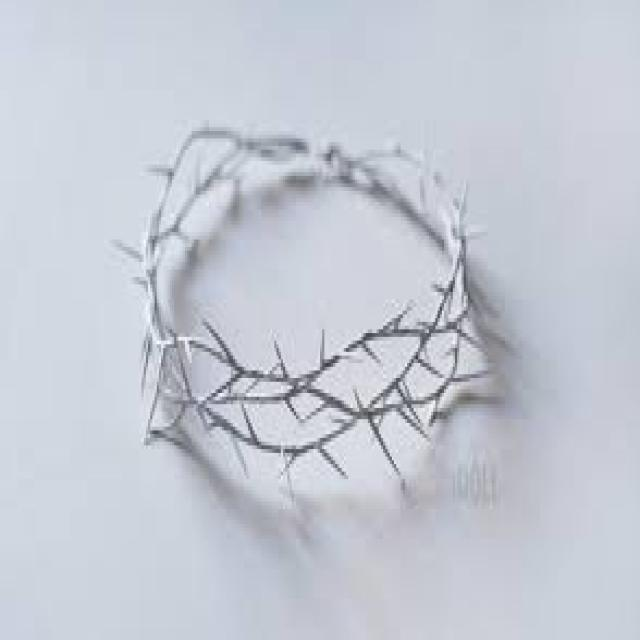crown: (116, 68, 512, 527)
